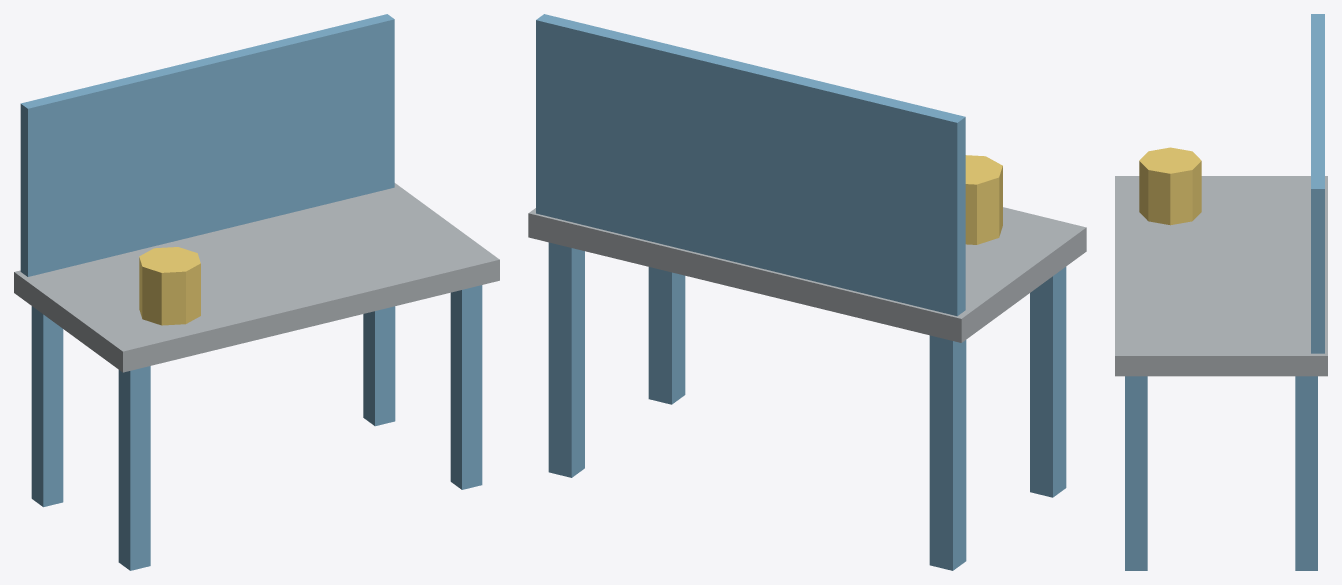
The model's file is SM_WorkbenchT2.fbx.
3 views of the same model, side by side, from view 1: azimuth 30°, elevation 25°; view 2: azimuth 150°, elevation 25°; view 3: azimuth 270°, elevation 25° (orthographic). The views are drawn at different scales.
Parts seen in each view (by area): view 1: SM_WorkbenchT2; view 2: SM_WorkbenchT2; view 3: SM_WorkbenchT2.
Boxes of the visible parts, box(x1,y1,x2,y2) form: SM_WorkbenchT2: box(14, 14, 499, 570); SM_WorkbenchT2: box(528, 14, 1086, 570); SM_WorkbenchT2: box(1115, 14, 1327, 570).
Bounding box in the file's own units: 15000 × 7500 × 15000.
